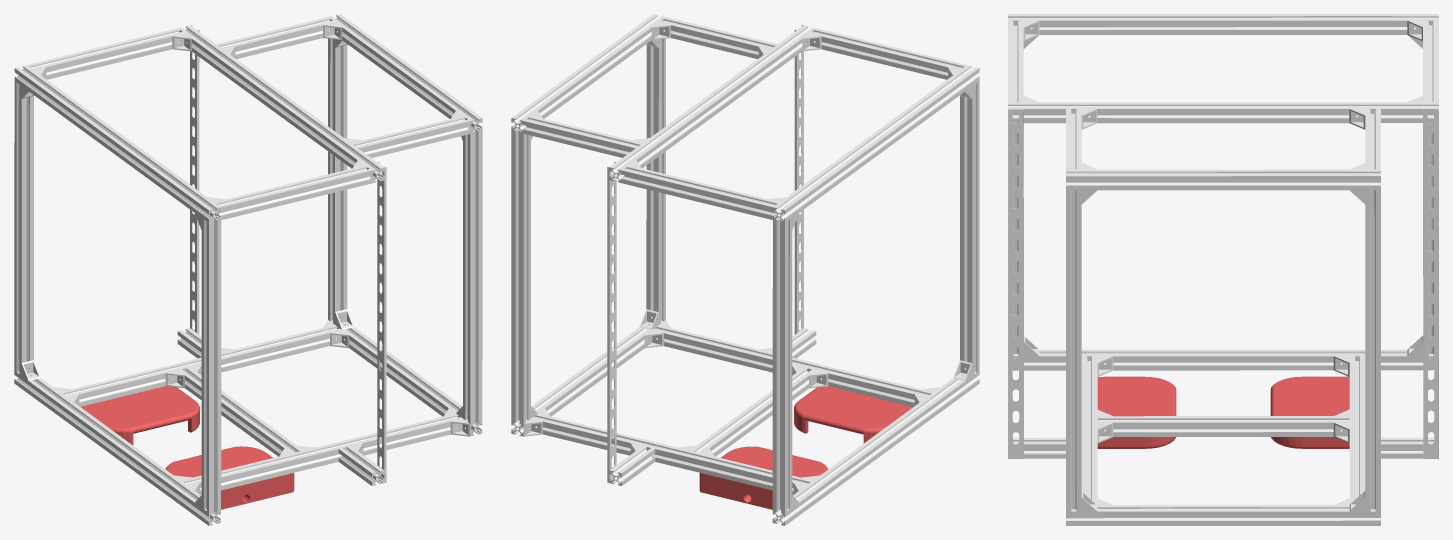
File: hover_base.dae
The picture shows the model from 3 angles, left to right: view 1: azimuth 30°, elevation 25°; view 2: azimuth 150°, elevation 25°; view 3: azimuth 270°, elevation 25°; orthographic projection. The views are drawn at different scales.
Parts seen in each view (by area): view 1: node36, node26, node7, node28, node4, node1, node17, node9, node19, node50, node27, node49 (+9 smaller); view 2: node7, node17, node36, node28, node4, node1, node26, node19, node9, node51, node27, node11 (+9 smaller); view 3: node1, node28, node4, node27, node20, node26, node17, node34, node44, node0, node51, node50 (+10 smaller).
Boxes of the visible parts, left/top/right/bottom form: node36: left=201, top=218, right=221, bottom=512; node26: left=463, top=129, right=482, bottom=423; node7: left=14, top=81, right=33, bottom=375; node28: left=14, top=65, right=221, bottom=222; node4: left=14, top=371, right=220, bottom=525; node1: left=178, top=25, right=384, bottom=183; node17: left=328, top=38, right=347, bottom=324; node9: left=181, top=413, right=462, bottom=495; node19: left=60, top=325, right=341, bottom=406; node50: left=81, top=386, right=199, bottom=445; node27: left=328, top=14, right=482, bottom=133; node49: left=214, top=165, right=371, bottom=219; node7: left=772, top=218, right=792, bottom=512; node17: left=511, top=129, right=530, bottom=423; node36: left=960, top=81, right=979, bottom=375; node28: left=773, top=65, right=979, bottom=222; node4: left=772, top=371, right=979, bottom=525; node1: left=609, top=25, right=815, bottom=183; node26: left=646, top=38, right=665, bottom=324; node19: left=531, top=413, right=812, bottom=495; node9: left=652, top=325, right=933, bottom=406; node51: left=794, top=386, right=913, bottom=443; node27: left=511, top=14, right=665, bottom=133; node11: left=622, top=165, right=779, bottom=219; node1: left=1008, top=102, right=1438, bottom=123; node28: left=1008, top=14, right=1438, bottom=34; node4: left=1013, top=349, right=1433, bottom=370; node27: left=1066, top=169, right=1380, bottom=190; node20: left=1066, top=505, right=1380, bottom=525; node26: left=1066, top=190, right=1081, bottom=511; node17: left=1365, top=190, right=1380, bottom=511; node34: left=1097, top=416, right=1349, bottom=436; node44: left=1008, top=109, right=1023, bottom=459; node0: left=1423, top=109, right=1438, bottom=459; node51: left=1097, top=376, right=1176, bottom=448; node50: left=1270, top=376, right=1349, bottom=448.
Size of the model in its own units: 0.487 by 0.5471 by 0.5201.
